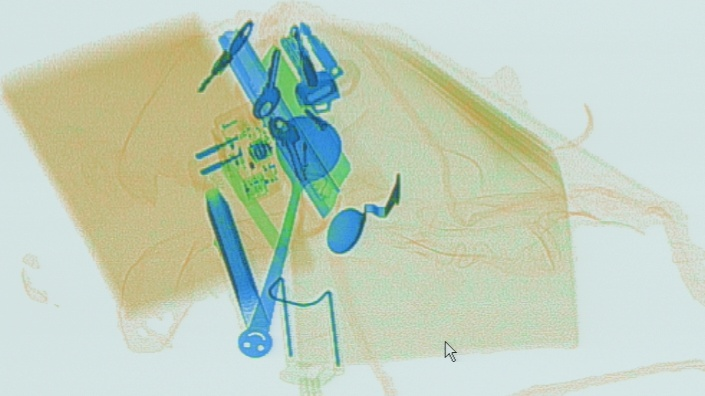knife: (219, 24, 343, 222)
